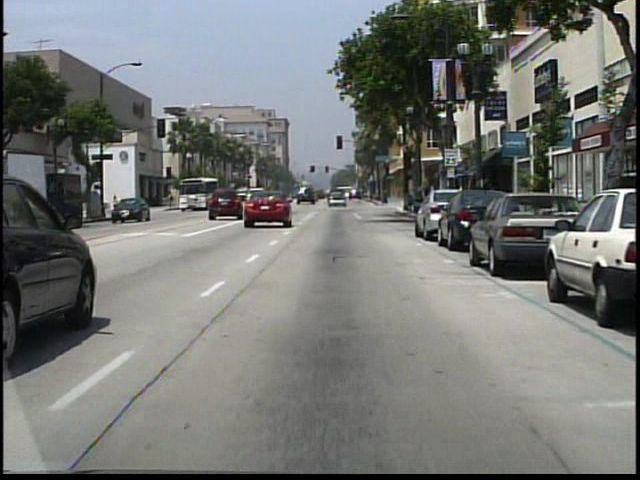person: (112, 195, 121, 216)
